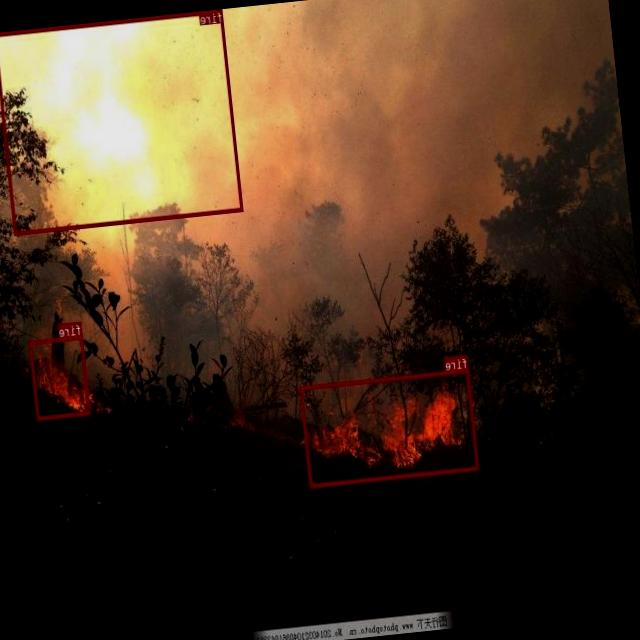fire: (0, 8, 243, 234), (299, 368, 480, 487), (29, 334, 91, 419)
